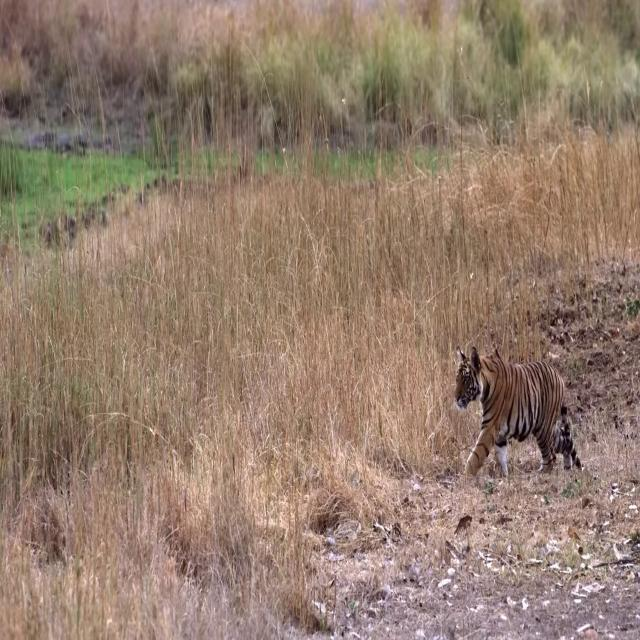tiger: (453, 345, 581, 477)
